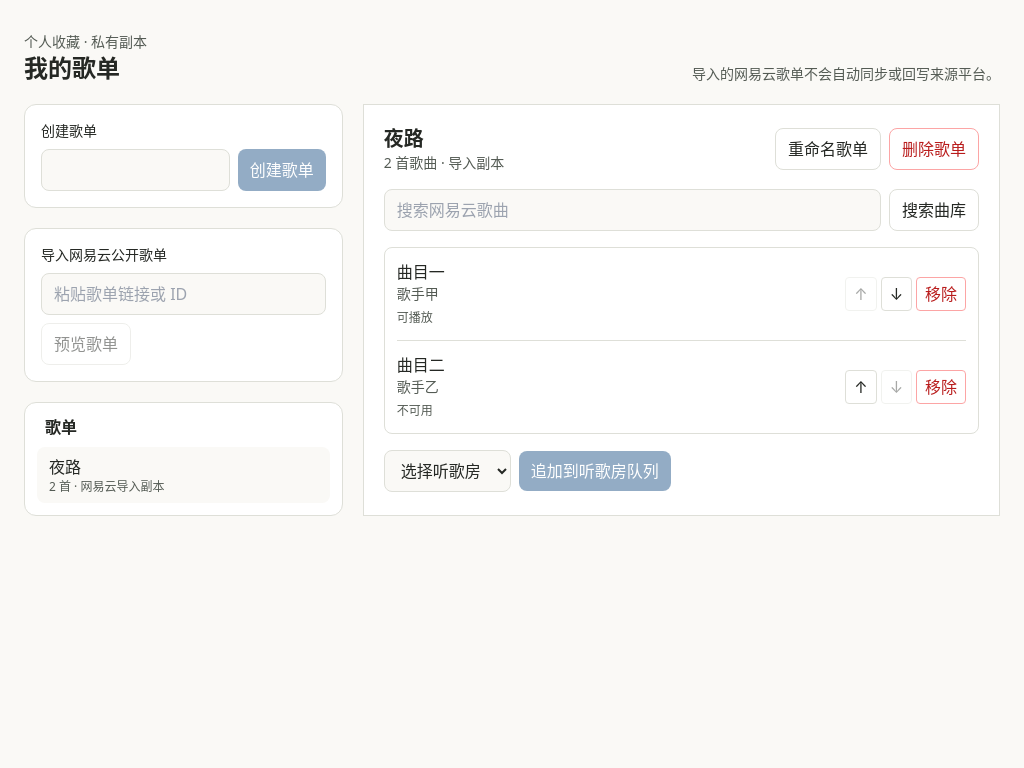
Test case: personal music playlists › appends selected playlist tracks to an existing music-room queue without replacing it
This screenshot has width=1024, height=768.
Select "蓝色听歌房" in the dropdown named "追加目标听歌房" at x=447, y=471, box [384,450,511,492]
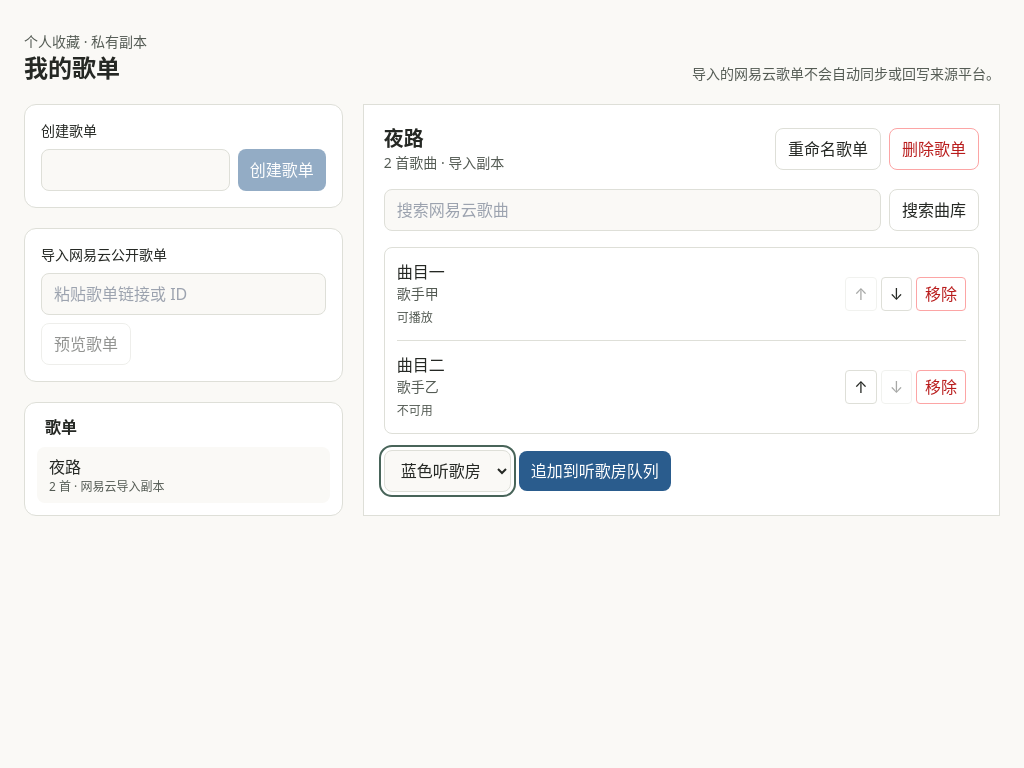
Click the button "追加到听歌房队列" at x=595, y=471, box [519,451,671,491]
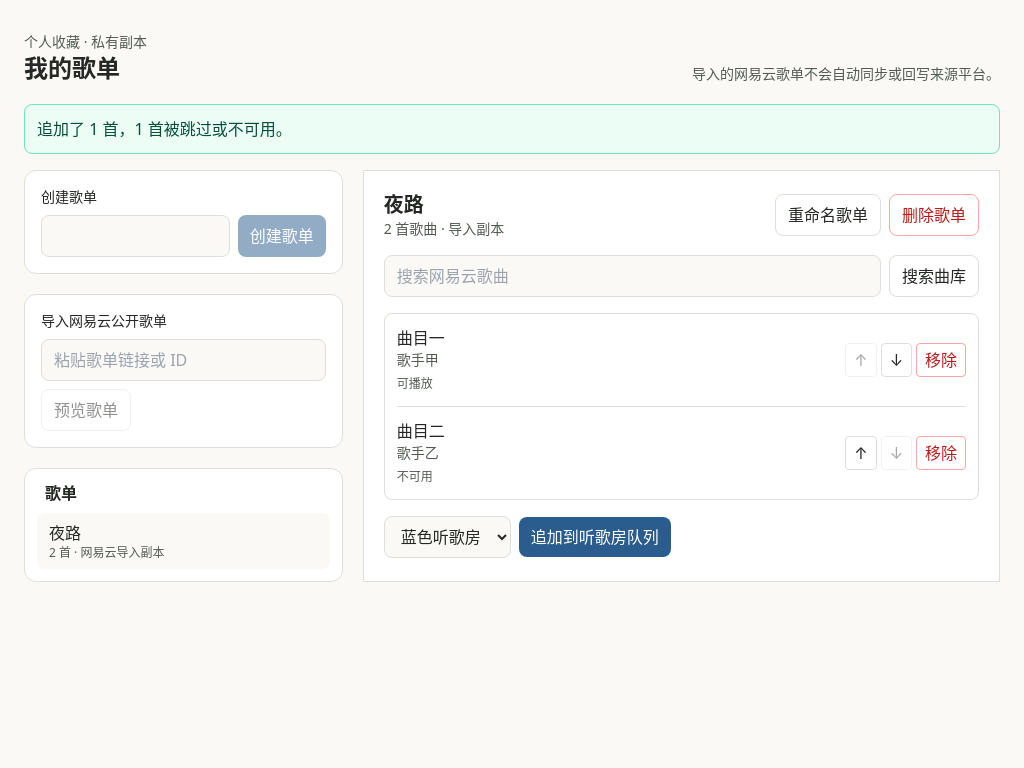
expect the text "追加了 1 首，1 首被跳过或不可用。" is shown: met, box [24,104,1000,154]
